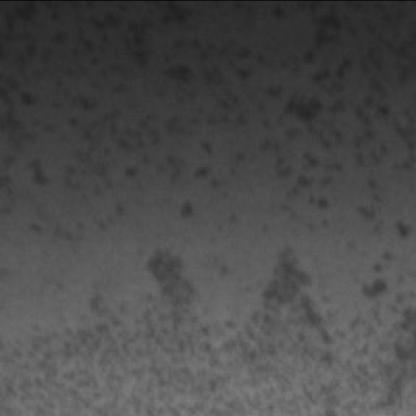pitted_surface: (19, 15, 414, 231), (21, 249, 414, 410)
